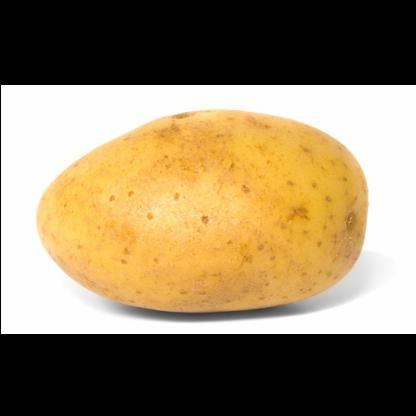potato: (37, 107, 367, 311)
